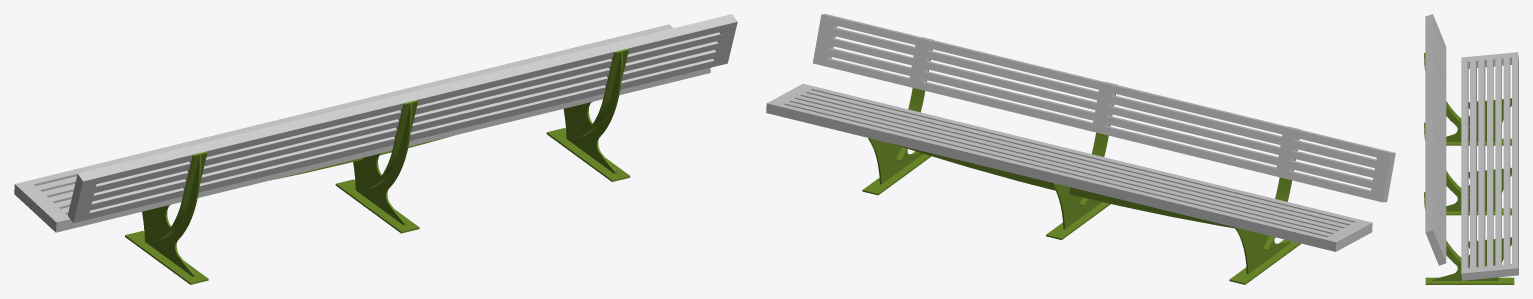
3 renders of one model, left to right at view 1: azimuth 30°, elevation 25°; view 2: azimuth 150°, elevation 25°; view 3: azimuth 270°, elevation 25°, orthographic. The views are drawn at different scales.
Parts seen in each view (by area): view 1: mesh5_mesh5-geometry, mesh11_mesh11-geometry, mesh3_mesh3-geometry; view 2: mesh5_mesh5-geometry, mesh3_mesh3-geometry, mesh11_mesh11-geometry, mesh1_mesh1-geometry; view 3: mesh3_mesh3-geometry, mesh5_mesh5-geometry, mesh11_mesh11-geometry.
Boxes of the visible parts, box(x1,y1,x2,y2) form: mesh5_mesh5-geometry: box(67, 14, 737, 222); mesh11_mesh11-geometry: box(125, 48, 630, 284); mesh3_mesh3-geometry: box(14, 24, 710, 232); mesh5_mesh5-geometry: box(813, 14, 1395, 202); mesh3_mesh3-geometry: box(766, 83, 1372, 251); mesh11_mesh11-geometry: box(862, 37, 1300, 284); mesh1_mesh1-geometry: box(896, 144, 1234, 228); mesh3_mesh3-geometry: box(1461, 52, 1518, 280); mesh5_mesh5-geometry: box(1425, 14, 1446, 265); mesh11_mesh11-geometry: box(1424, 53, 1514, 284).
Size of the model in its own units: 0.9657 by 0.1882 by 0.1788.
